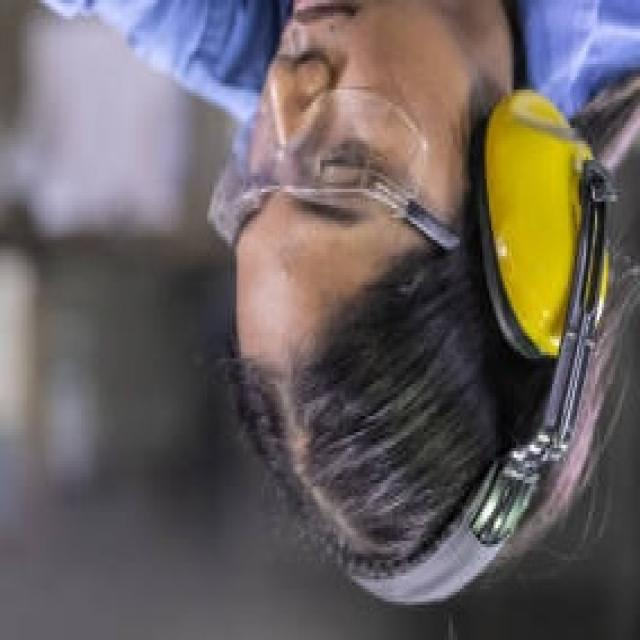Ear-Protection: (360, 92, 627, 627)
Glasses: (202, 84, 442, 252)
